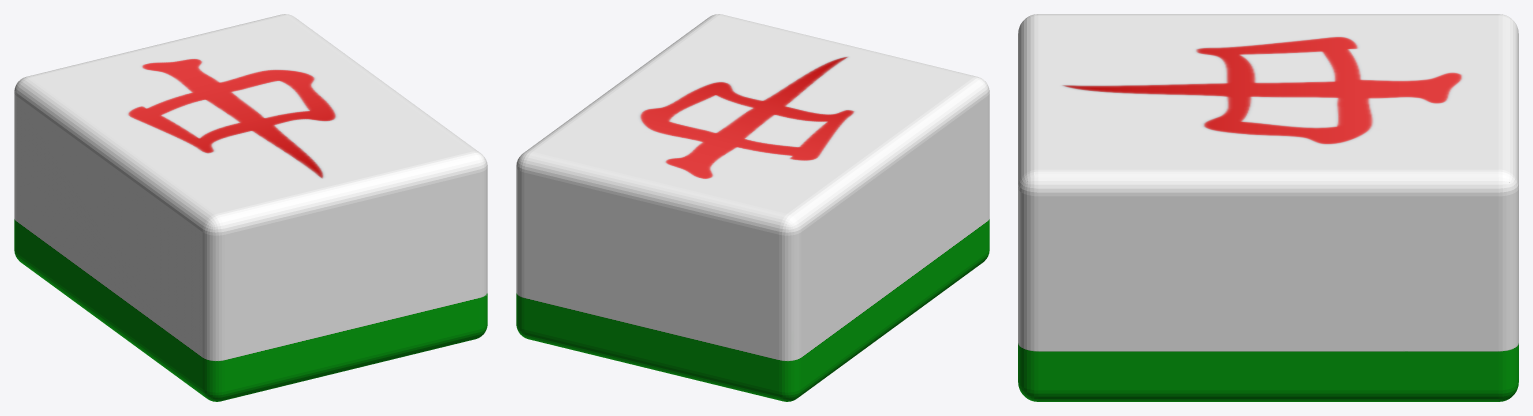
File: tile.glb
The picture shows the model from 3 angles, left to right: view 1: azimuth 30°, elevation 25°; view 2: azimuth 150°, elevation 25°; view 3: azimuth 270°, elevation 25°; orthographic projection. The views are drawn at different scales.
Visible parts, largest first — view 1: Tile; view 2: Tile; view 3: Tile.
Boxes of the visible parts, left/top/right/bottom form: Tile: left=14, top=14, right=487, bottom=401; Tile: left=516, top=14, right=989, bottom=401; Tile: left=1018, top=14, right=1518, bottom=401.
Bounding box in the file's own units: 2 × 1.26 × 2.48.
Materials: 1 (1 with a texture image).
